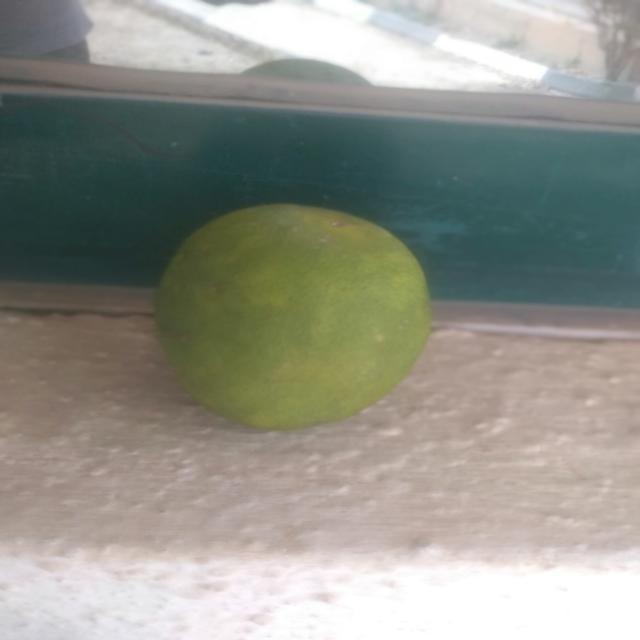agrume: (139, 192, 460, 451)
